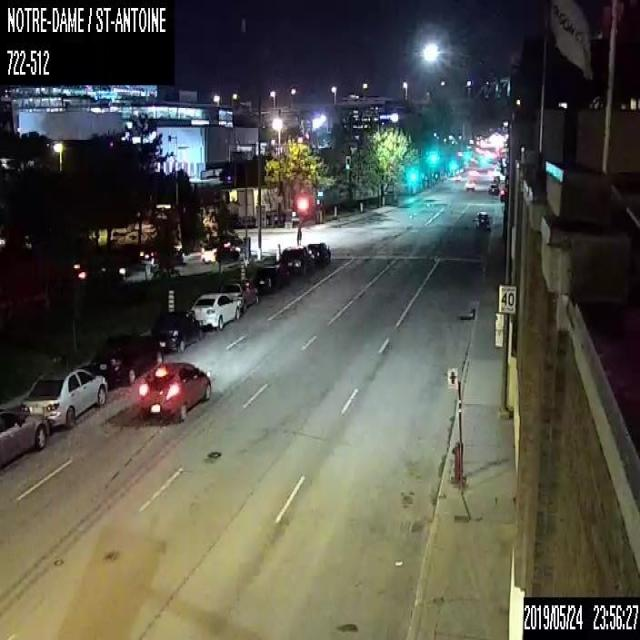construction: (166, 288, 174, 309), (238, 262, 246, 278), (275, 243, 280, 260), (332, 204, 337, 218), (359, 201, 363, 212)
vehicle: (20, 366, 107, 427), (138, 360, 210, 420), (90, 334, 163, 384), (0, 406, 48, 467), (150, 309, 204, 349), (236, 184, 283, 225), (190, 292, 240, 329), (219, 278, 258, 310), (252, 262, 289, 292), (280, 244, 314, 276), (138, 245, 183, 268), (200, 241, 239, 263), (305, 241, 330, 266), (473, 211, 491, 232), (487, 180, 498, 193), (464, 177, 474, 191)
